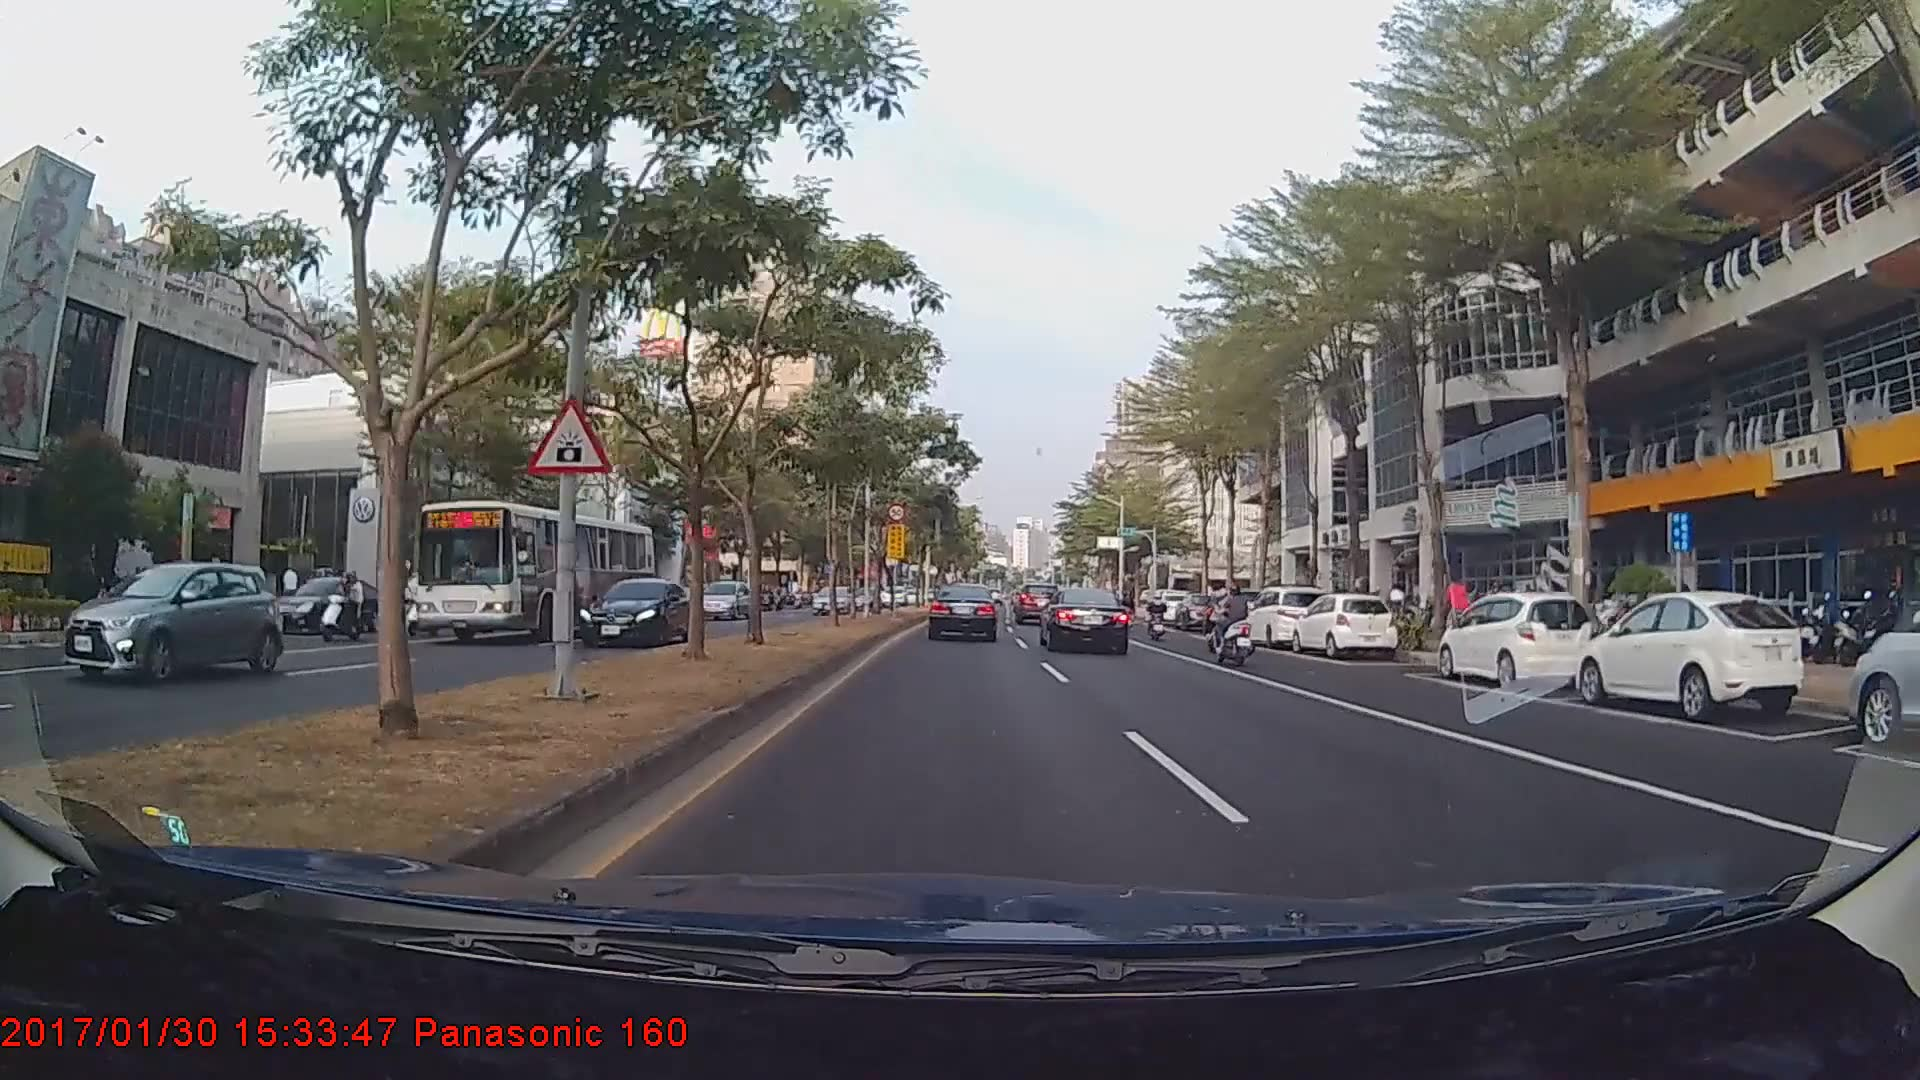rider: (1209, 582, 1263, 673), (311, 571, 369, 645), (1205, 588, 1252, 655), (1147, 586, 1174, 643)
vehicle: (411, 499, 657, 646), (1576, 589, 1806, 723), (59, 560, 280, 685), (1440, 591, 1601, 693), (1844, 555, 1920, 756), (578, 577, 693, 647), (1291, 592, 1396, 659), (271, 576, 388, 635), (1040, 586, 1131, 655), (1238, 585, 1335, 647), (927, 582, 1001, 643), (693, 579, 753, 619), (1013, 580, 1066, 624), (808, 584, 855, 615)
